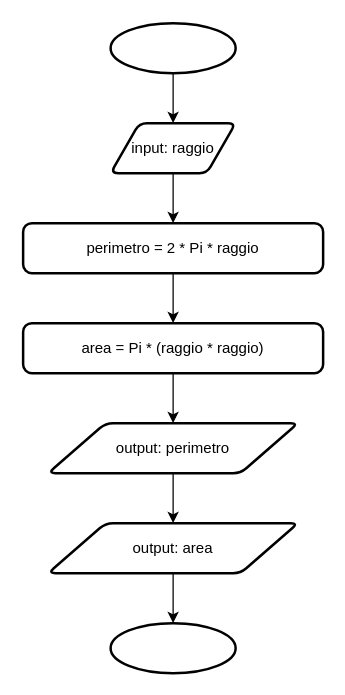
Some shapes in this 345 by 695 pixel diagram are drawn without their labels. Here are the shapes that lost their labels. From the top down, the centre of each, then its label:
At (172,47): "inizio".
At (172,647): "fine".
